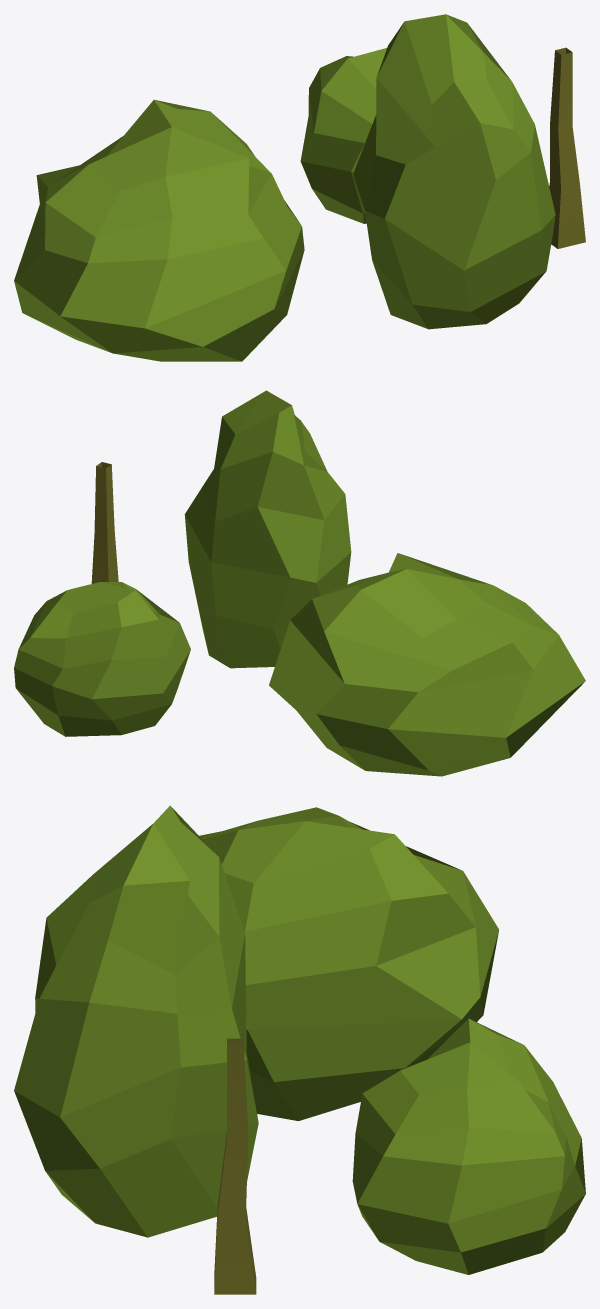
Rendered from Bushes.fbx.
The picture shows the model from 3 angles, top to bottom: view 1: azimuth 30°, elevation 25°; view 2: azimuth 150°, elevation 25°; view 3: azimuth 270°, elevation 25°; orthographic projection. The views are drawn at different scales.
Visible parts, largest first — view 1: Bush2, Bush1, Bush, Stomp1; view 2: Bush2, Bush1, Bush, Stomp1; view 3: Bush1, Bush2, Bush, Stomp1.
Part boxes in pixels (<box>): Bush2: <box>14,99,304,361</box>; Bush1: <box>353,14,555,329</box>; Bush: <box>300,48,386,223</box>; Stomp1: <box>549,47,585,248</box>; Bush2: <box>269,553,585,776</box>; Bush1: <box>184,390,351,668</box>; Bush: <box>14,582,190,736</box>; Stomp1: <box>91,462,118,583</box>; Bush1: <box>14,805,258,1237</box>; Bush2: <box>199,807,498,1120</box>; Bush: <box>352,1018,585,1274</box>; Stomp1: <box>214,1038,256,1294</box>.
Bounding box in the file's own units: 32.11 × 16.37 × 23.05.
